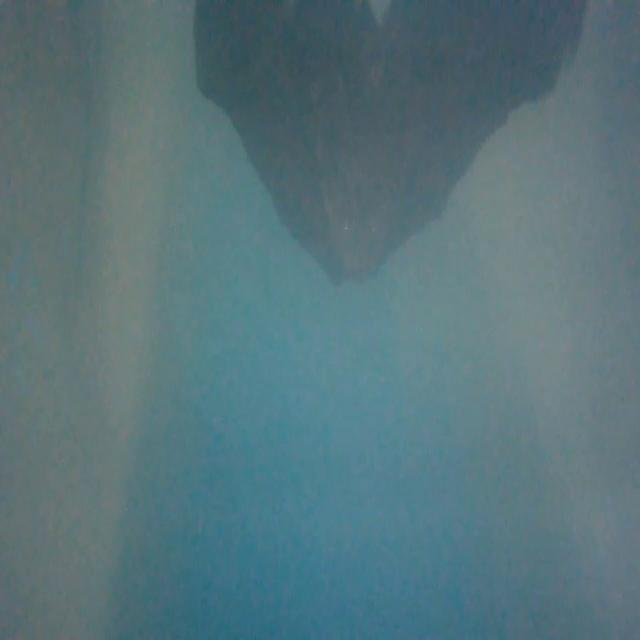plastic bags: (186, 3, 586, 293)
